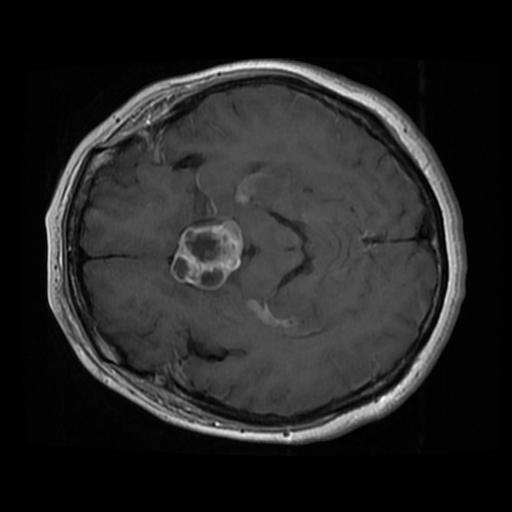pituitary tumour: (169, 220, 244, 290)
